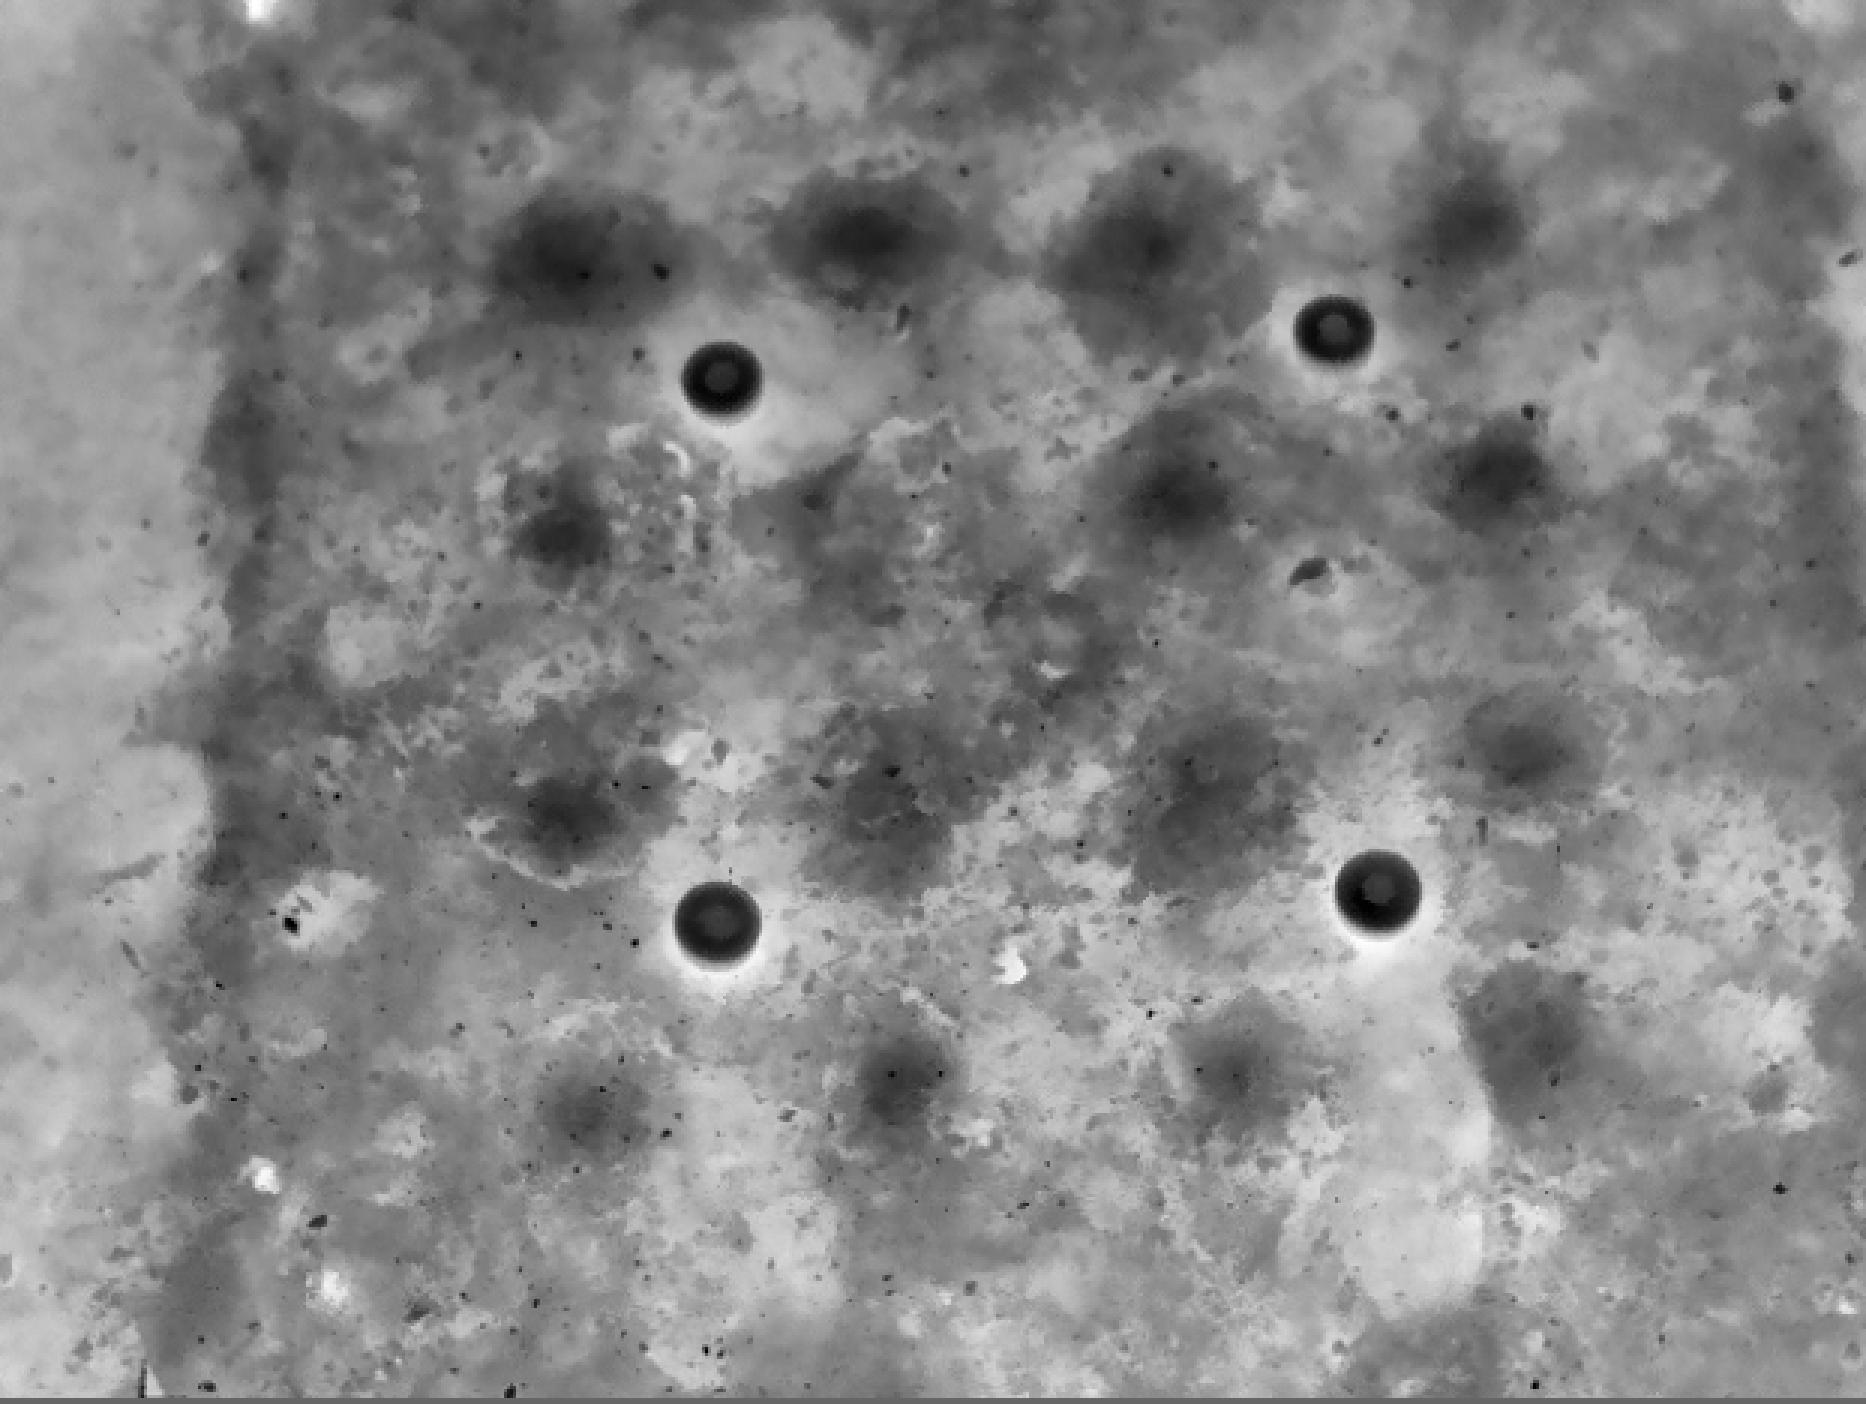mines-gjV8: (676, 875, 763, 978), (684, 342, 780, 419), (1338, 845, 1429, 922), (1295, 292, 1373, 373)
